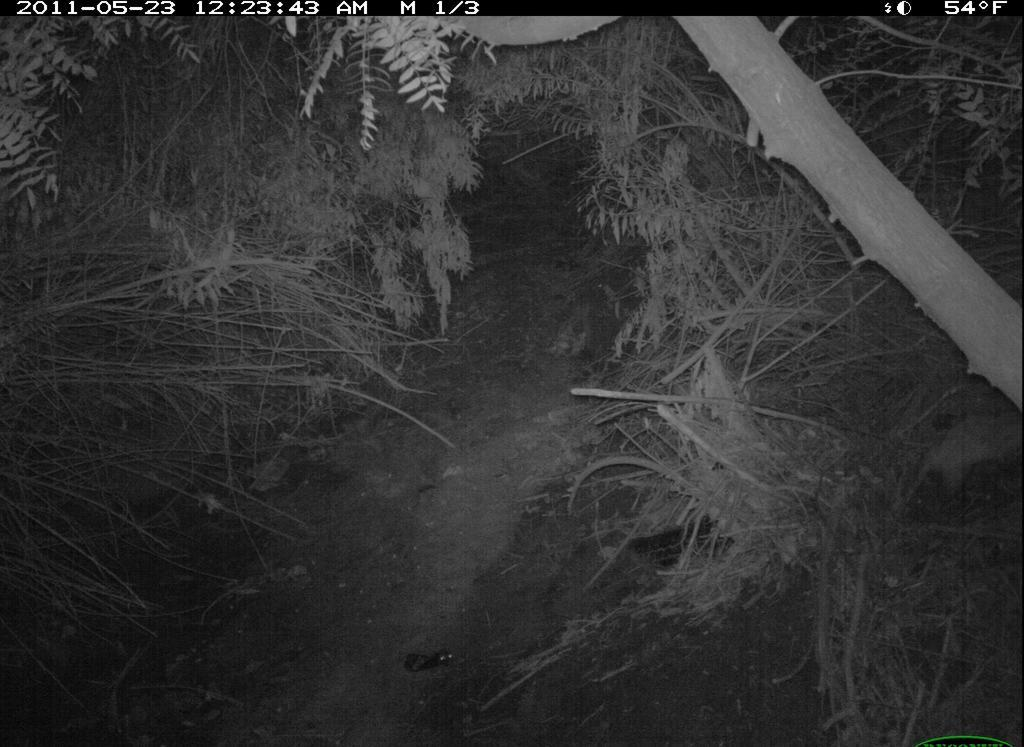opossum: (882, 401, 1023, 518)
